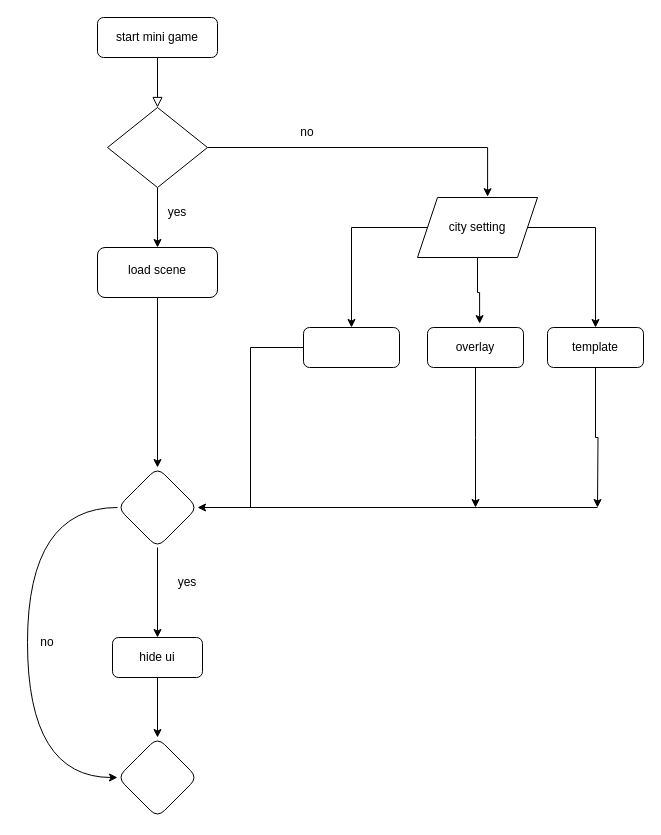
Image size: 661x835. Some labels were removed from this diagram. Each missing label, with the centre of its shape:
"custom" goes at point 351,347.
"hide ui?" goes at point 157,507.
"new scene" goes at point 157,147.
